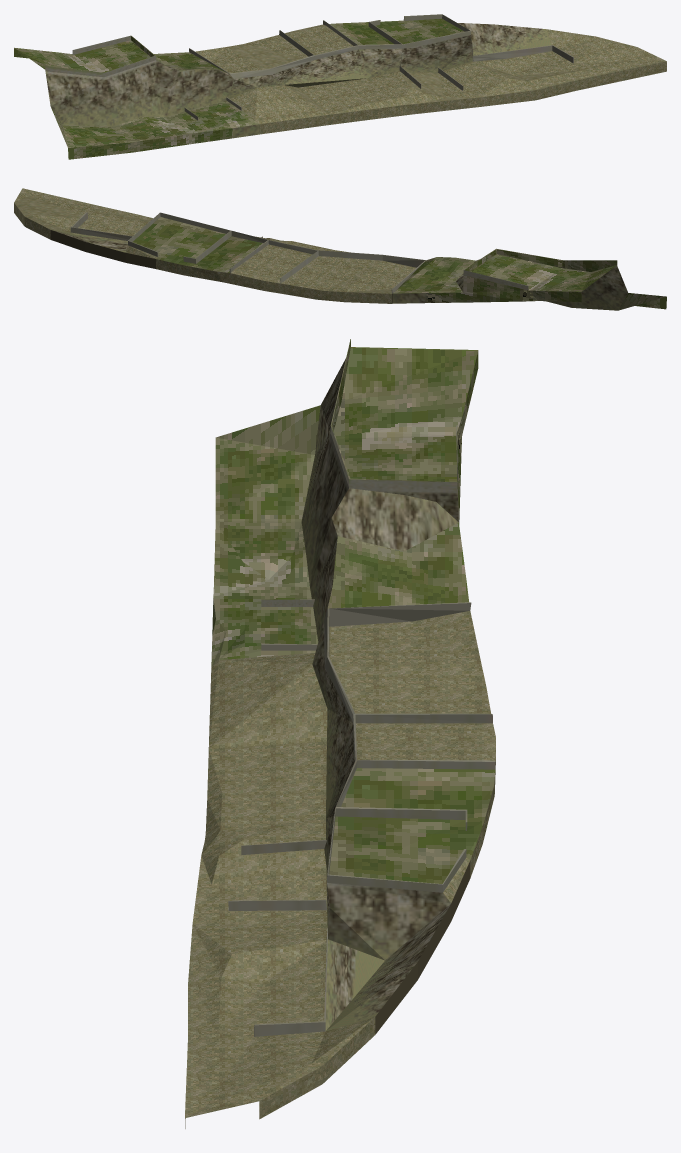
File: lodlae2_ground15b.obj
3 views of the same model, one above another, from view 1: azimuth 30°, elevation 25°; view 2: azimuth 150°, elevation 25°; view 3: azimuth 270°, elevation 25° (orthographic). The views are drawn at different scales.
Visible parts, largest first — view 1: LODlae2_ground15b; view 2: LODlae2_ground15b; view 3: LODlae2_ground15b.
Part boxes in pixels (box(x1,y1,x2,y2)): LODlae2_ground15b: box(14, 14, 666, 159); LODlae2_ground15b: box(14, 188, 666, 310); LODlae2_ground15b: box(185, 339, 495, 1128).
Bounding box in the file's own units: 213 × 40.16 × 48.49.
4 materials, 4 textured.
